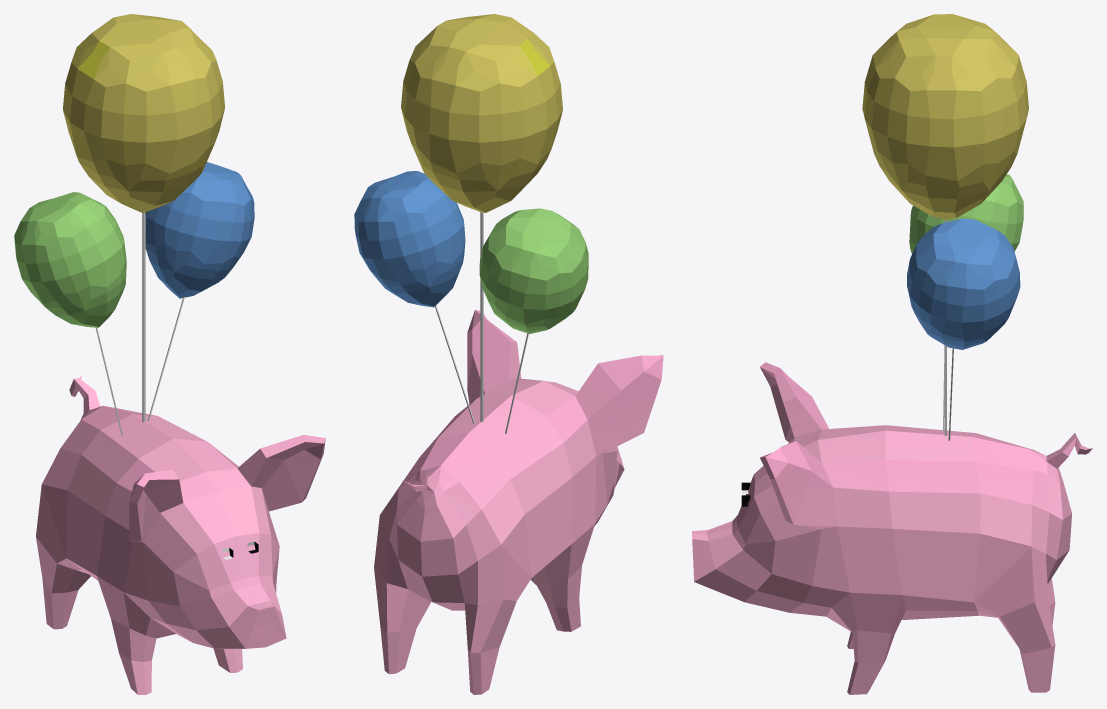
The model's file is enemy.gltf.
The picture shows the model from 3 angles, left to right: view 1: azimuth 30°, elevation 25°; view 2: azimuth 150°, elevation 25°; view 3: azimuth 270°, elevation 25°; orthographic projection. The views are drawn at different scales.
Visible parts, largest first — view 1: Pig:PM3D_ZSphere_1_0, Pig:PM3D_ZSphere_1_2, Pig:PM3D_ZSphere_1_4, Pig:PM3D_ZSphere_1_5, Pig:PM3D_ZSphere_1_3; view 2: Pig:PM3D_ZSphere_1_0, Pig:PM3D_ZSphere_1_2, Pig:PM3D_ZSphere_1_5, Pig:PM3D_ZSphere_1_4, Pig:PM3D_ZSphere_1_3; view 3: Pig:PM3D_ZSphere_1_0, Pig:PM3D_ZSphere_1_2, Pig:PM3D_ZSphere_1_5, Pig:PM3D_ZSphere_1_4.
Part boxes in pixels (x1,y1,x2,y2): Pig:PM3D_ZSphere_1_0: [36, 376, 325, 694]; Pig:PM3D_ZSphere_1_2: [63, 14, 224, 212]; Pig:PM3D_ZSphere_1_4: [14, 192, 258, 553]; Pig:PM3D_ZSphere_1_5: [145, 162, 254, 298]; Pig:PM3D_ZSphere_1_3: [142, 212, 145, 422]; Pig:PM3D_ZSphere_1_0: [374, 310, 663, 694]; Pig:PM3D_ZSphere_1_2: [401, 14, 562, 212]; Pig:PM3D_ZSphere_1_5: [354, 171, 465, 307]; Pig:PM3D_ZSphere_1_4: [479, 208, 588, 333]; Pig:PM3D_ZSphere_1_3: [480, 212, 483, 422]; Pig:PM3D_ZSphere_1_0: [692, 362, 1092, 694]; Pig:PM3D_ZSphere_1_2: [862, 14, 1028, 219]; Pig:PM3D_ZSphere_1_5: [907, 218, 1020, 349]; Pig:PM3D_ZSphere_1_4: [741, 174, 1023, 506].
Bounding box in the file's own units: 2.12 × 5.62 × 3.2.
